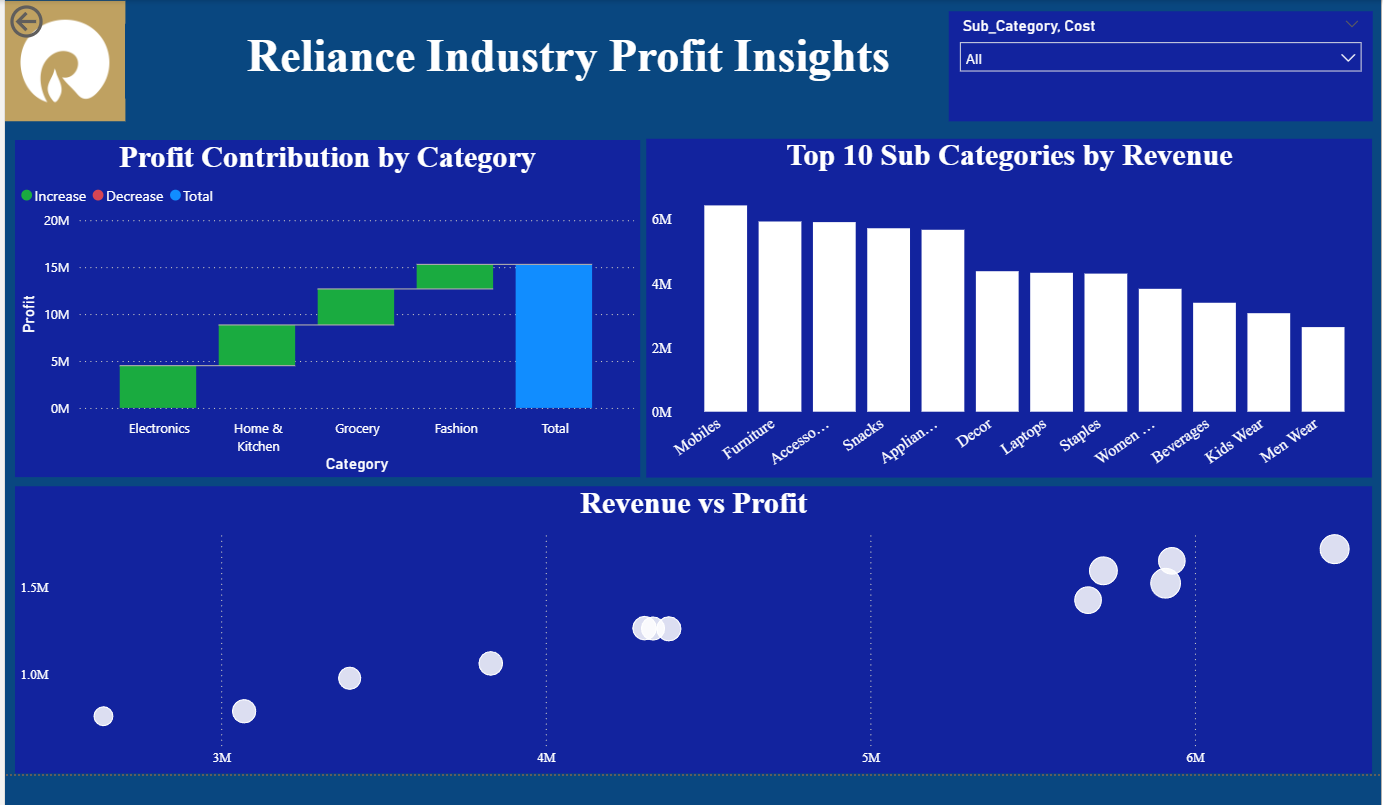

What the dashboard file says about the page in this screenshot:
{"tool":"powerbi","page":{"name":"Profit Analysis","canvas":[1280,720],"ordinal":2},"visuals":[{"type":"image","box":[0,0,111.7,113.1],"z":0},{"type":"textbox","box":[111.1,22,824.7,70],"z":1000},{"type":"waterfallChart","title":"Profit Contribution by Category","fields":{"Y":["Sales_Data.Profit"],"Category":["Sales_Data.Category"]},"box":[9.3,130.2,581.4,314],"z":2000},{"type":"scatterChart","title":"Revenue vs Profit","fields":{"X":["Sales_Data.Total Revenue"],"Y":["Sales_Data.Profit"],"Category":["Sales_Data.Sub_Category"],"Size":["Sum(Sales_Data.Quantity_Sold)"]},"box":[9.3,452.3,1262.8,267.4],"z":3000},{"type":"columnChart","title":"Top 10 Sub Categories by Revenue","fields":{"Category":["Sales_Data.Sub_Category"],"Y":["Sales_Data.Total Revenue"]},"box":[596.5,129.1,675.6,315.1],"z":4000},{"type":"slicer","title":"Top 10 Sub Categories by Revenue","fields":{"Values":["Sales_Data.Sub_Category","Sales_Data.Cost"]},"box":[877.9,10.5,394.2,102.3],"z":5000},{"type":"actionButton","box":[0,0,100,40],"z":6000}]}

Visuals, with their boxes on the page's 1280x720 design canvas (x1, y1, x2, y2). These are canvas units, not pixel positions in the 1383x805 screenshot, which may show the page scaled, cropped or inside an application window:
image: crop(0, 0, 112, 113)
textbox: crop(111, 22, 936, 92)
"Profit Contribution by Category" waterfallChart: crop(9, 130, 591, 444)
"Revenue vs Profit" scatterChart: crop(9, 452, 1272, 720)
"Top 10 Sub Categories by Revenue" columnChart: crop(596, 129, 1272, 444)
"Top 10 Sub Categories by Revenue" slicer: crop(878, 10, 1272, 113)
actionButton: crop(0, 0, 100, 40)
